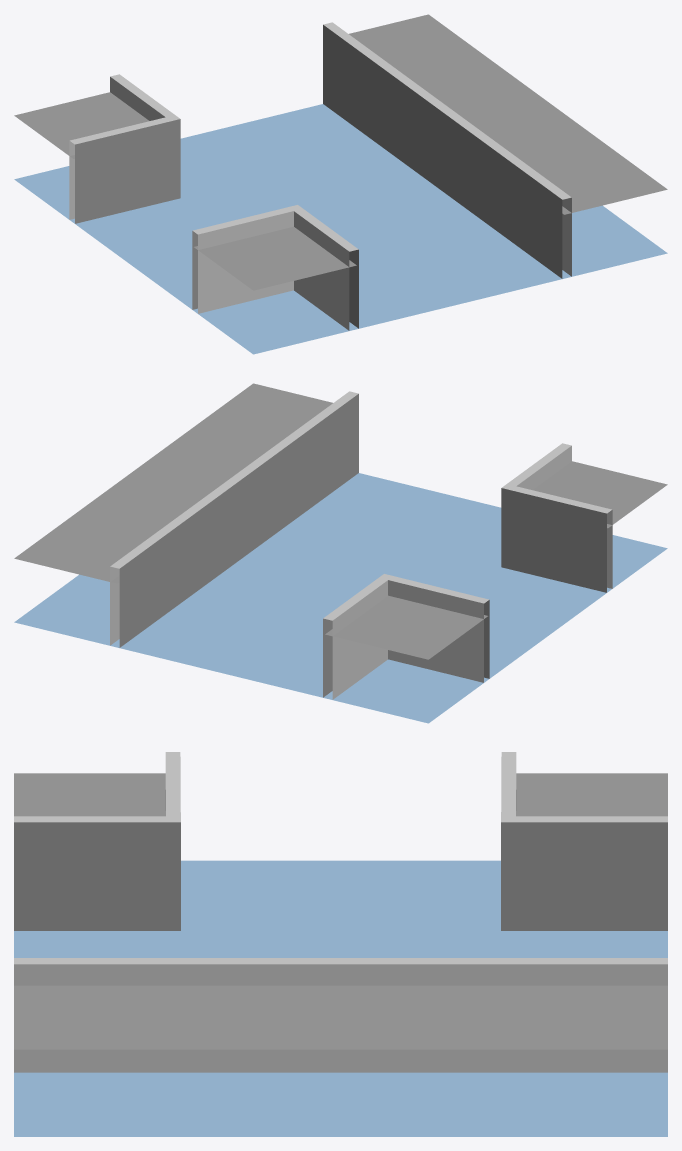
Rendered from road_tile_river_1x1_004.glb.
3 views of the same model, one above another, from view 1: azimuth 30°, elevation 25°; view 2: azimuth 150°, elevation 25°; view 3: azimuth 270°, elevation 25° (orthographic). The views are drawn at different scales.
Visible parts, largest first — view 1: road_tile_river_1x1_004; view 2: road_tile_river_1x1_004; view 3: road_tile_river_1x1_004.
Boxes of the visible parts, x1,y1,x2,y2 form: road_tile_river_1x1_004: (14, 14, 667, 354); road_tile_river_1x1_004: (14, 383, 667, 723); road_tile_river_1x1_004: (14, 752, 667, 1136).
Size of the model in its own units: 8 by 1.46 by 8.
Materials: 1 (1 with a texture image).
